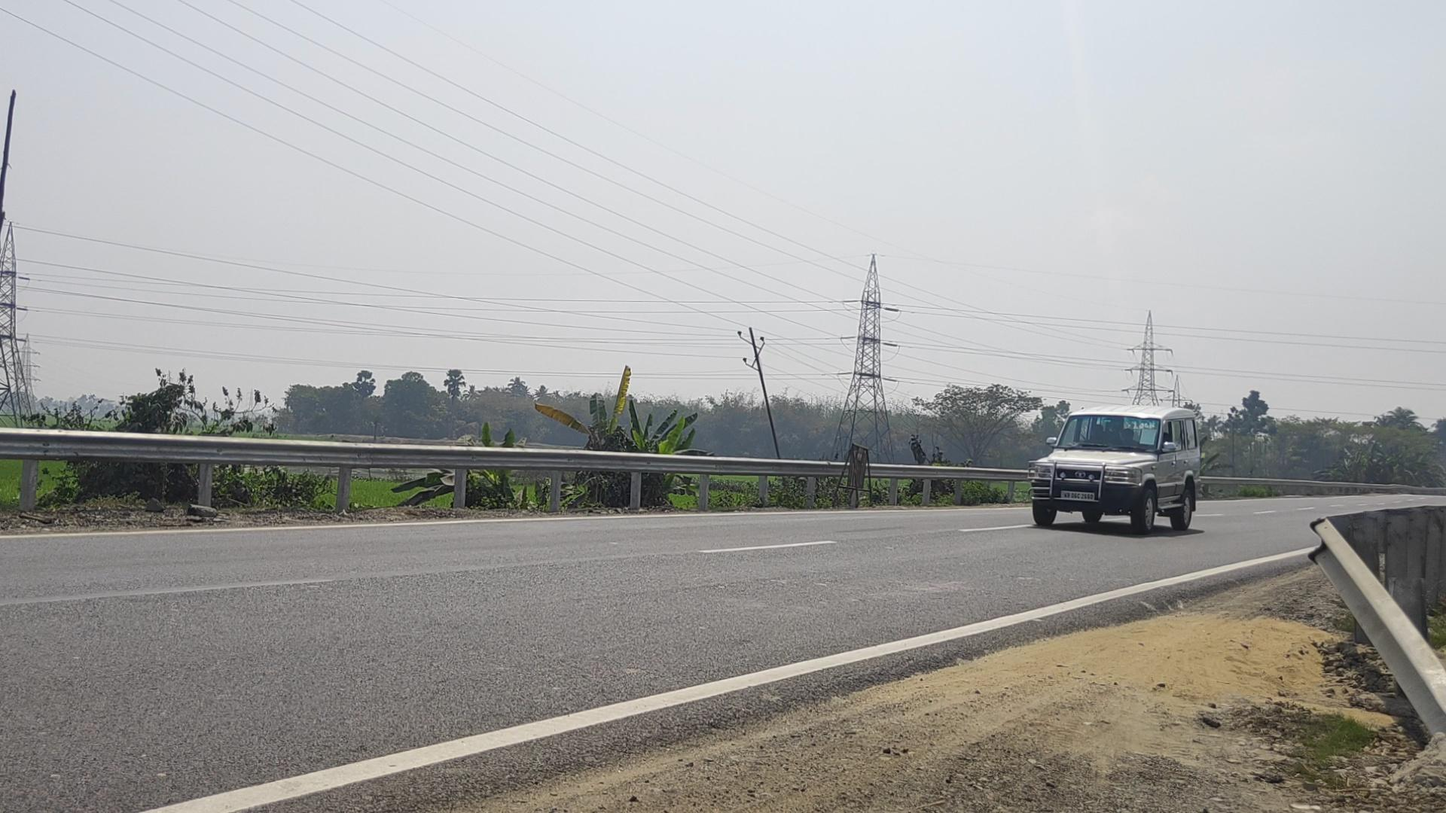car: (1028, 405, 1200, 534)
